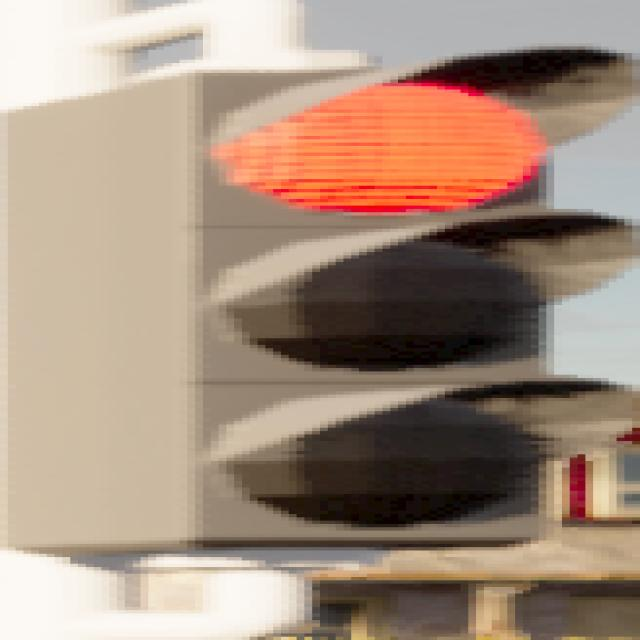red_light: (0, 44, 640, 572)
